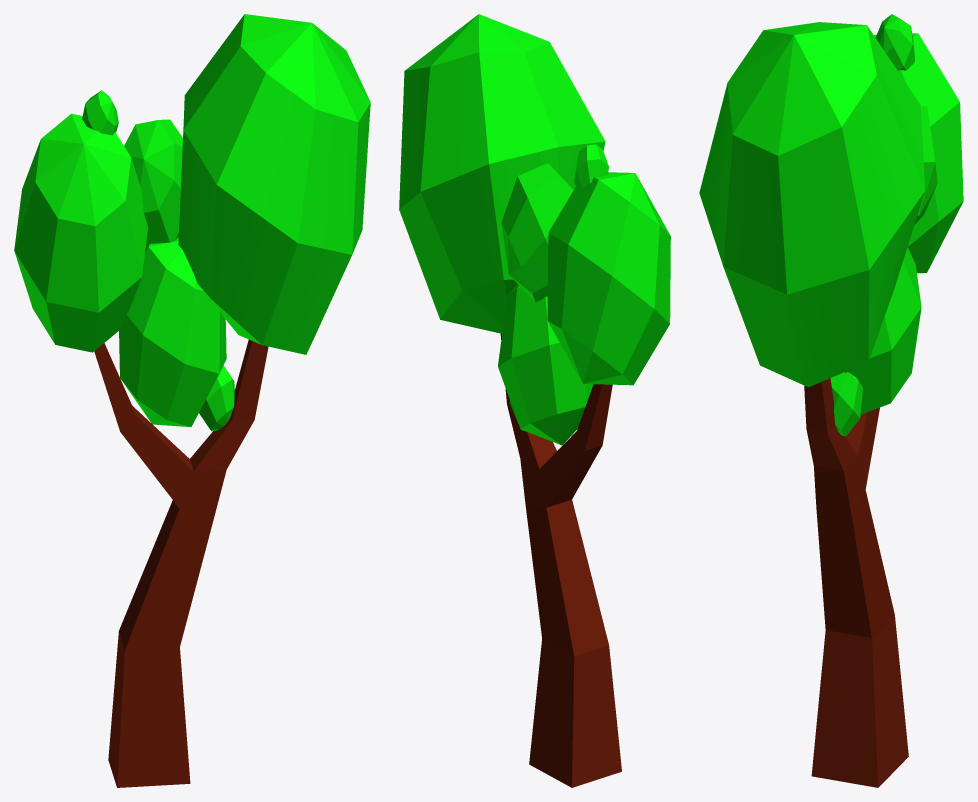
File: Tree.obj
3 renders of one model, left to right at view 1: azimuth 30°, elevation 25°; view 2: azimuth 150°, elevation 25°; view 3: azimuth 270°, elevation 25°, orthographic. The views are drawn at different scales.
Parts seen in each view (by area): view 1: polySurface9, Wood_Branch, polySurface3, polySurface7, polySurface5, polySurface11, polySurface1; view 2: polySurface9, Wood_Branch, polySurface3, polySurface7, polySurface5, polySurface1; view 3: polySurface9, Wood_Branch, polySurface3, polySurface7, polySurface11, polySurface1, polySurface5.
Boxes of the visible parts, x1,y1,x2,y2 form: polySurface9: (178,14,370,354); Wood_Branch: (94,339,268,787); polySurface3: (14,113,148,352); polySurface7: (119,237,226,426); polySurface5: (124,119,182,251); polySurface11: (199,365,234,431); polySurface1: (82,90,118,135); polySurface9: (399,14,605,333); Wood_Branch: (500,333,621,787); polySurface3: (547,172,670,385); polySurface7: (498,284,593,445); polySurface5: (501,163,573,302); polySurface1: (574,144,608,191); polySurface9: (699,22,924,387); Wood_Branch: (804,378,908,787); polySurface3: (874,33,963,273); polySurface7: (844,247,921,414); polySurface11: (830,372,862,436); polySurface1: (875,14,914,70); polySurface5: (913,94,937,224).
Bounding box in the file's own units: 0.8912 × 2.11 × 0.6321.
